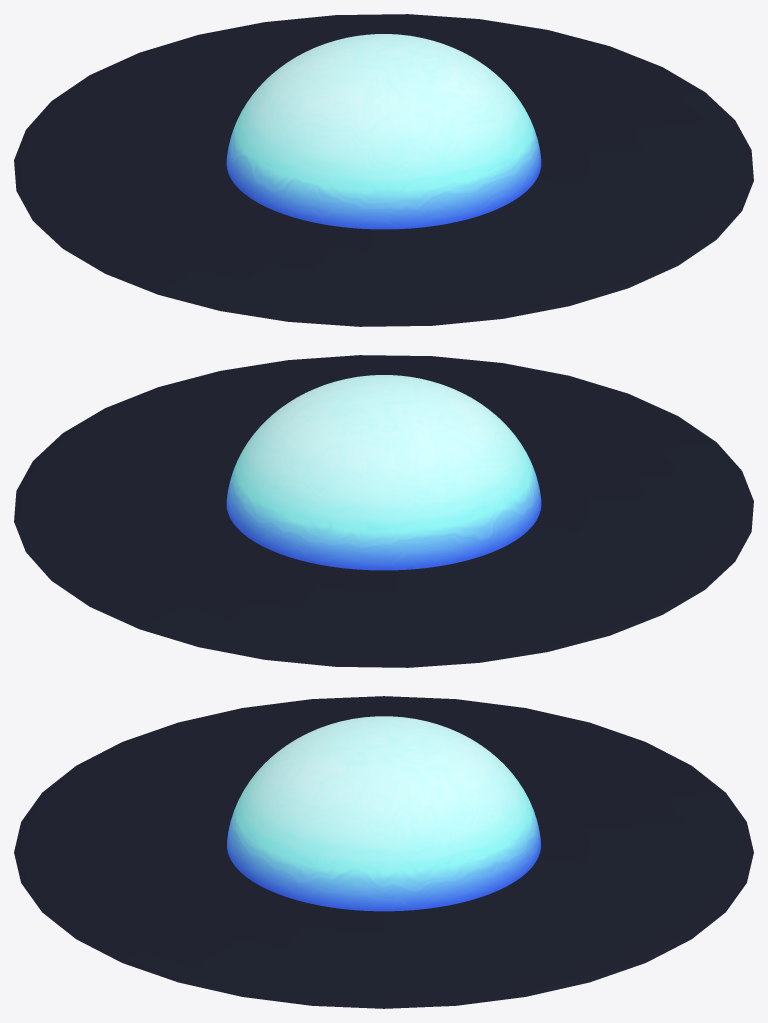
The model's file is bestar1.glb.
3 renders of one model, top to bottom at view 1: azimuth 30°, elevation 25°; view 2: azimuth 150°, elevation 25°; view 3: azimuth 270°, elevation 25°, orthographic.
Parts seen in each view (by area): view 1: Sphere, Icosphere; view 2: Sphere, Icosphere; view 3: Sphere, Icosphere.
Boxes of the visible parts, <box> form: Sphere: <box>14,14,753,326</box>; Icosphere: <box>226,34,541,229</box>; Sphere: <box>14,355,753,667</box>; Icosphere: <box>226,375,541,570</box>; Sphere: <box>14,696,753,1008</box>; Icosphere: <box>227,716,540,911</box>.
Bounding box in the file's own units: 5.64 × 2 × 5.64.
2 materials, 1 textured.
